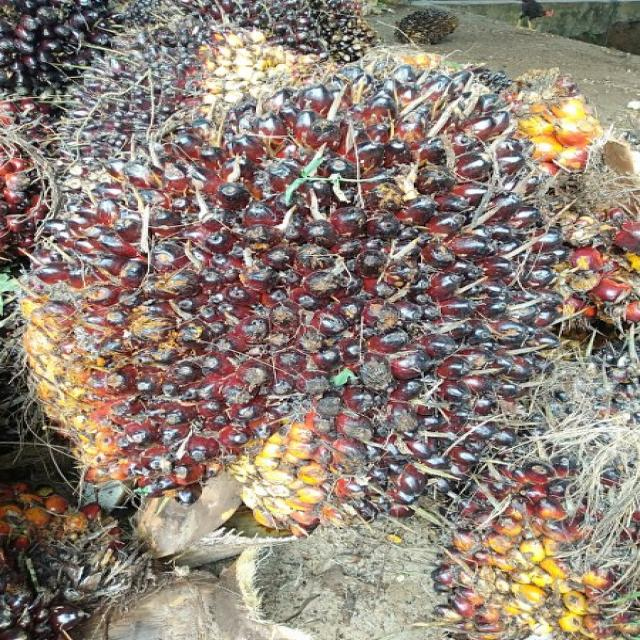fraksi 1: (55, 21, 605, 553)
